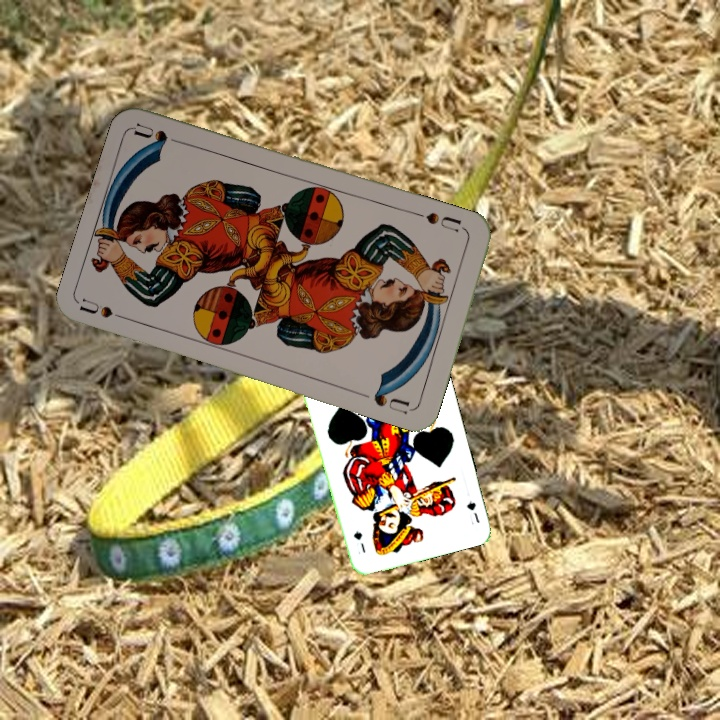GU: (463, 497, 482, 525)
SU: (77, 294, 136, 325), (422, 208, 464, 235)
